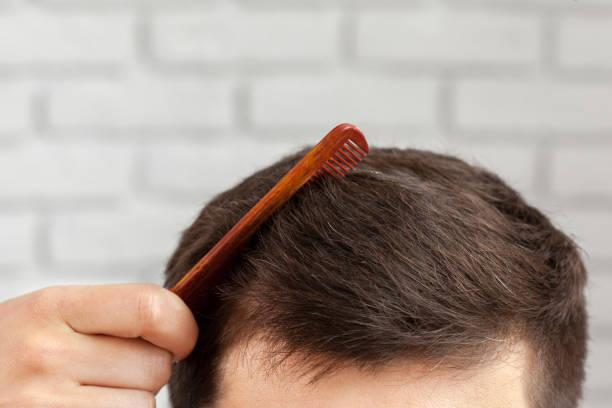dry hair: (396, 216, 552, 289), (255, 300, 372, 341), (261, 229, 362, 265), (414, 298, 534, 319), (321, 188, 382, 204), (202, 281, 238, 300)
